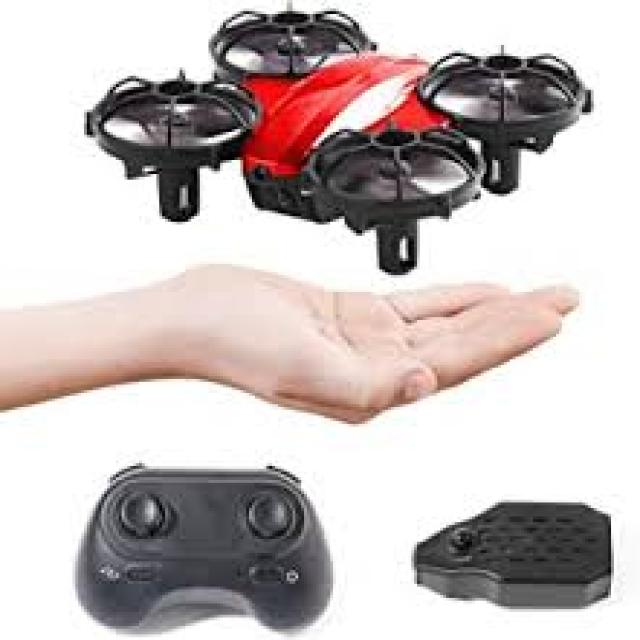drone: (68, 0, 615, 283)
